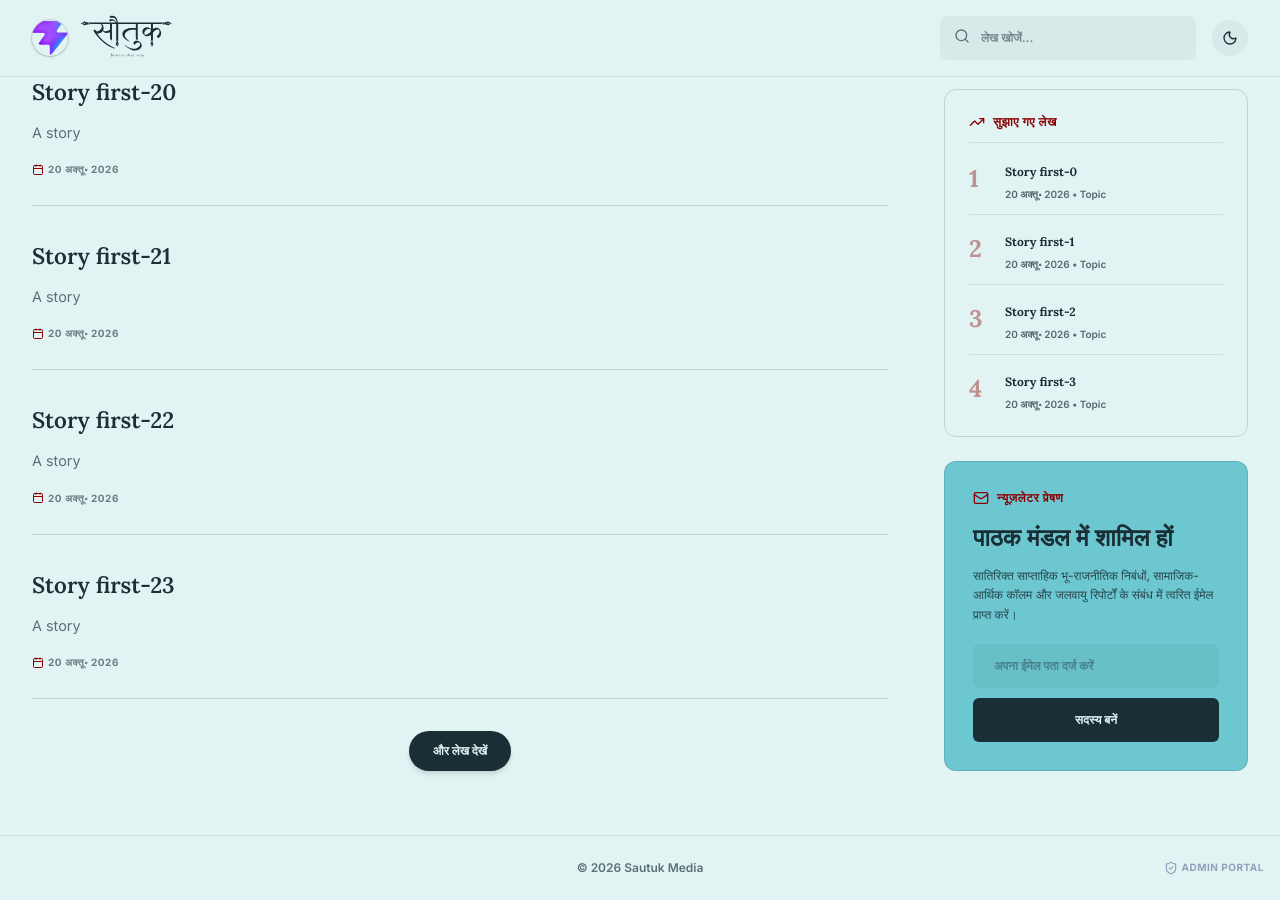
Test: retains loaded articles after a next-page failure and retries that page
(page scrolled)
Click the button "और लेख देखें".
click(460, 751)  # box [409,731,511,771]
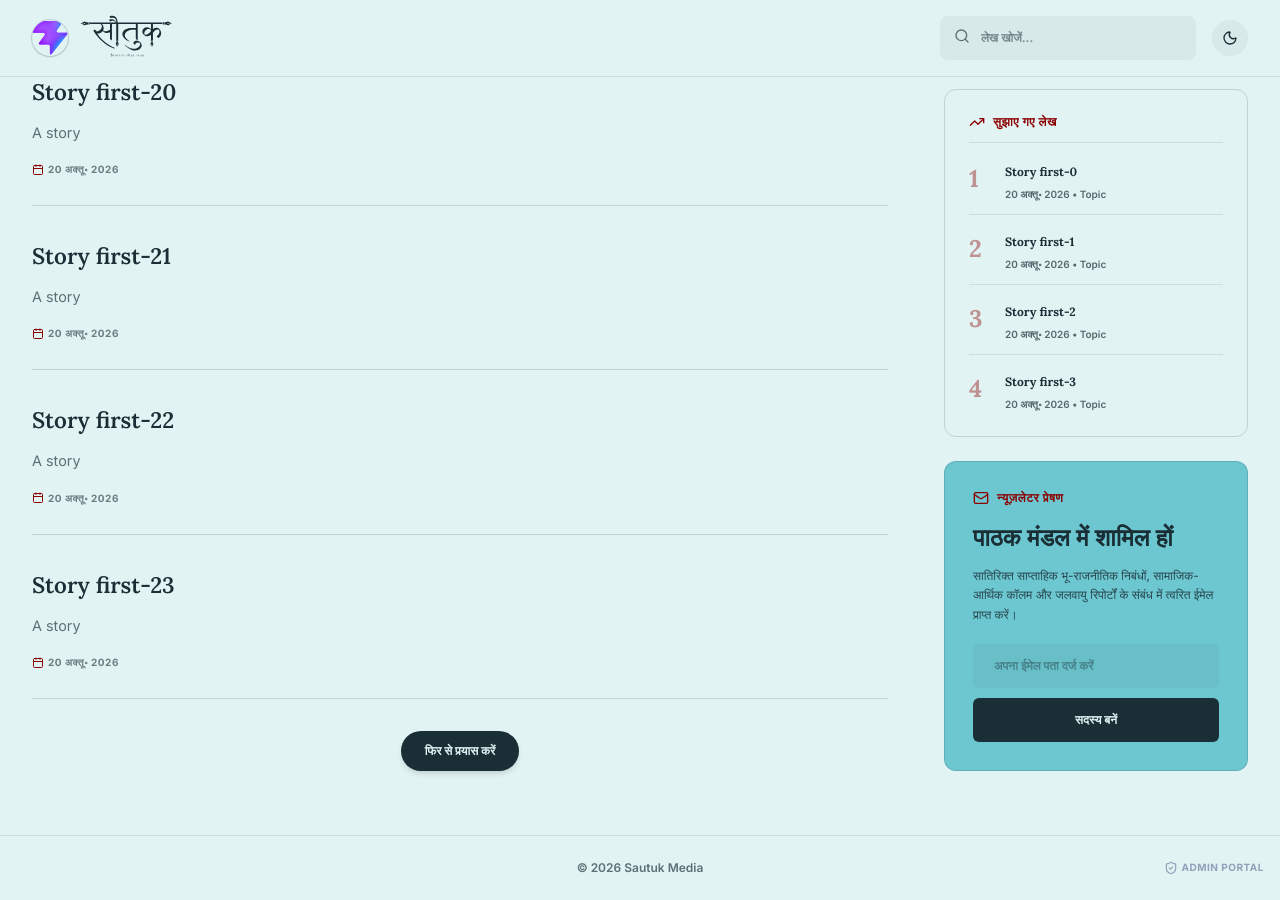
Expected: the heading "Story first-23" is shown, [32,570,175,599]
Click the button "फिर से प्रयास करें".
click(460, 751)  # box [401,731,519,771]
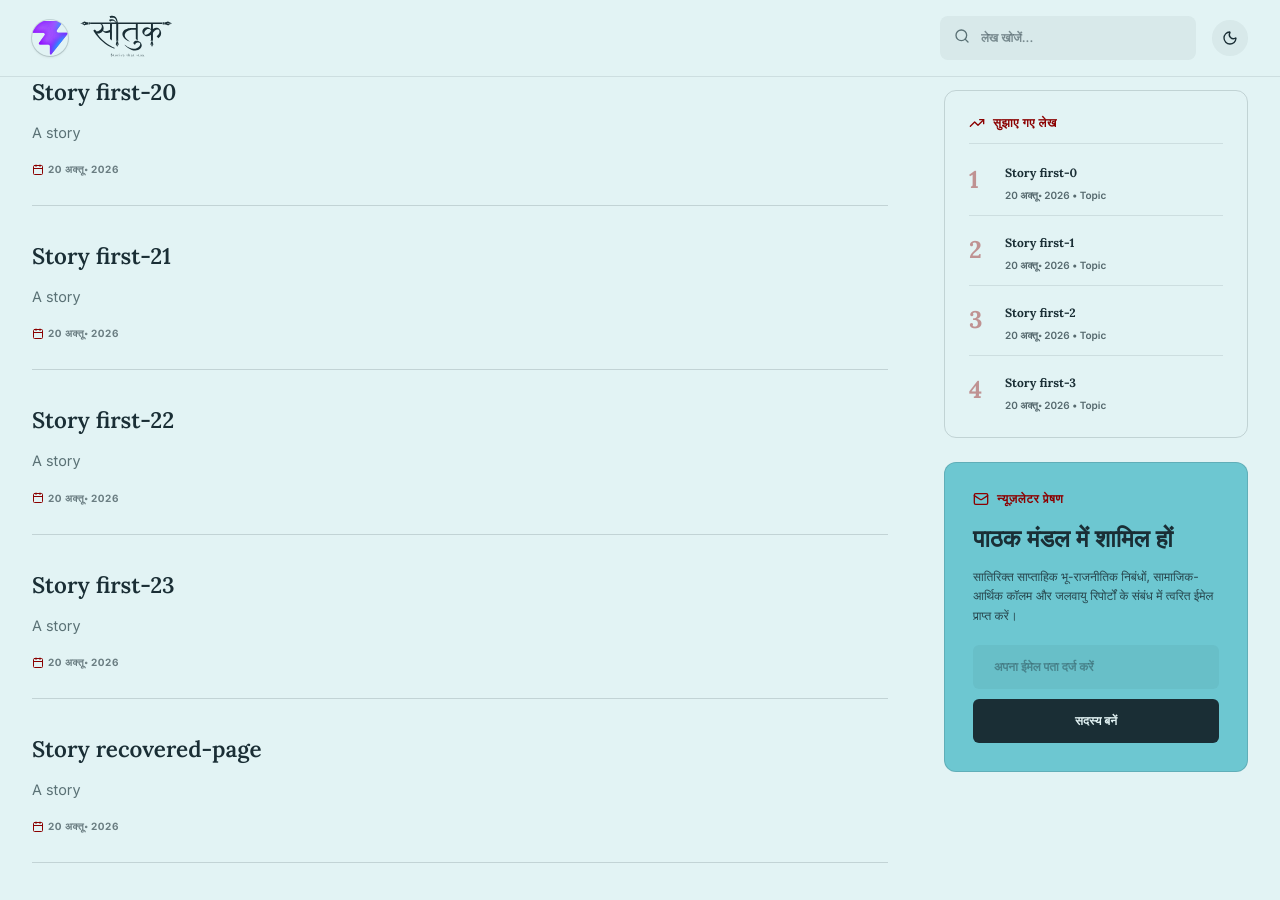
Expected: the heading "Story first-23" is shown, [32,570,175,599]
Now the heading "Story recovered-page" is shown, box [32,734,262,763]
